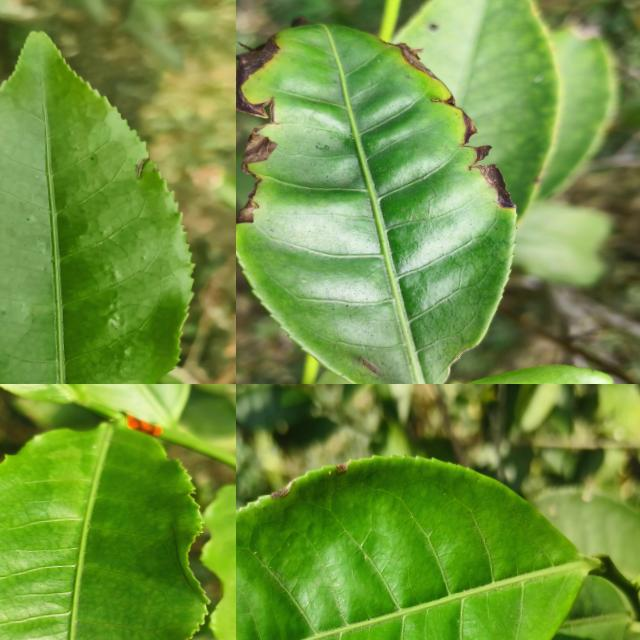Leaf: (236, 23, 515, 384), (0, 32, 191, 384), (236, 455, 596, 640), (0, 423, 206, 640), (392, 0, 558, 216), (536, 26, 618, 199), (530, 486, 640, 580), (551, 576, 630, 640), (236, 384, 311, 429), (464, 364, 612, 384), (595, 384, 640, 443), (514, 384, 565, 432)
